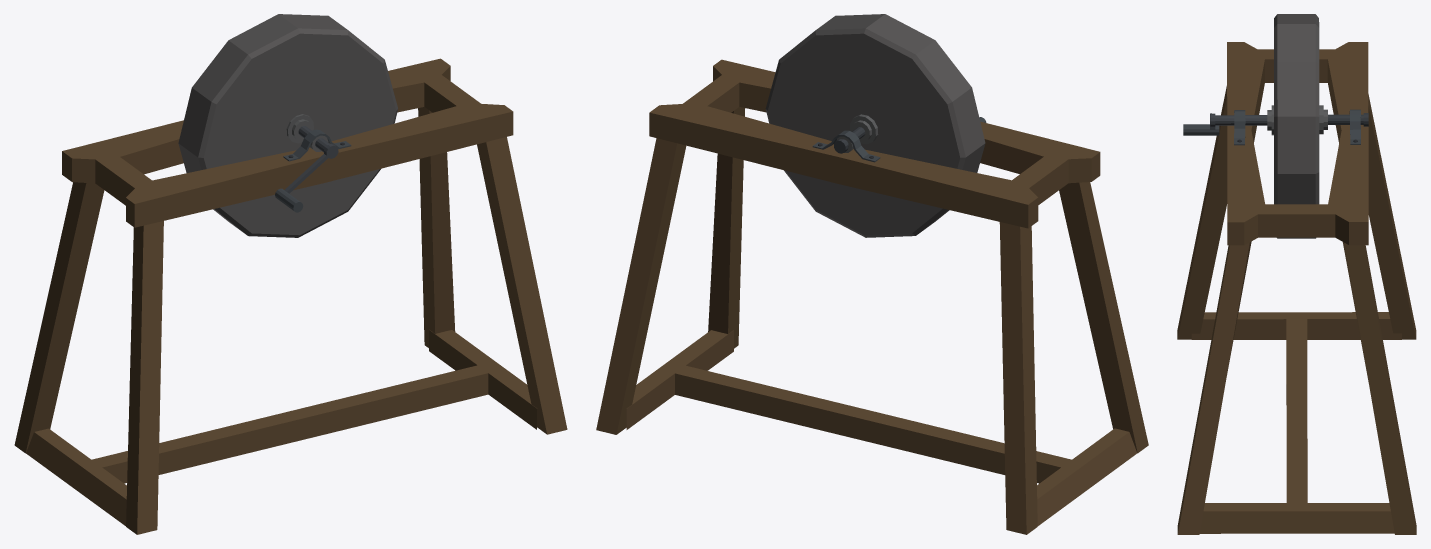
File: Grindingwheel_1.fbx
3 views of the same model, side by side, from view 1: azimuth 30°, elevation 25°; view 2: azimuth 150°, elevation 25°; view 3: azimuth 270°, elevation 25° (orthographic). The views are drawn at different scales.
Parts seen in each view (by area): view 1: Grindingwheel_1; view 2: Grindingwheel_1; view 3: Grindingwheel_1.
Part boxes in pixels (bbox=[...]): Grindingwheel_1: bbox=[14, 14, 567, 534]; Grindingwheel_1: bbox=[596, 14, 1148, 534]; Grindingwheel_1: bbox=[1177, 14, 1416, 534].
Bounding box in the file's own units: 129 × 119 × 63.45.
